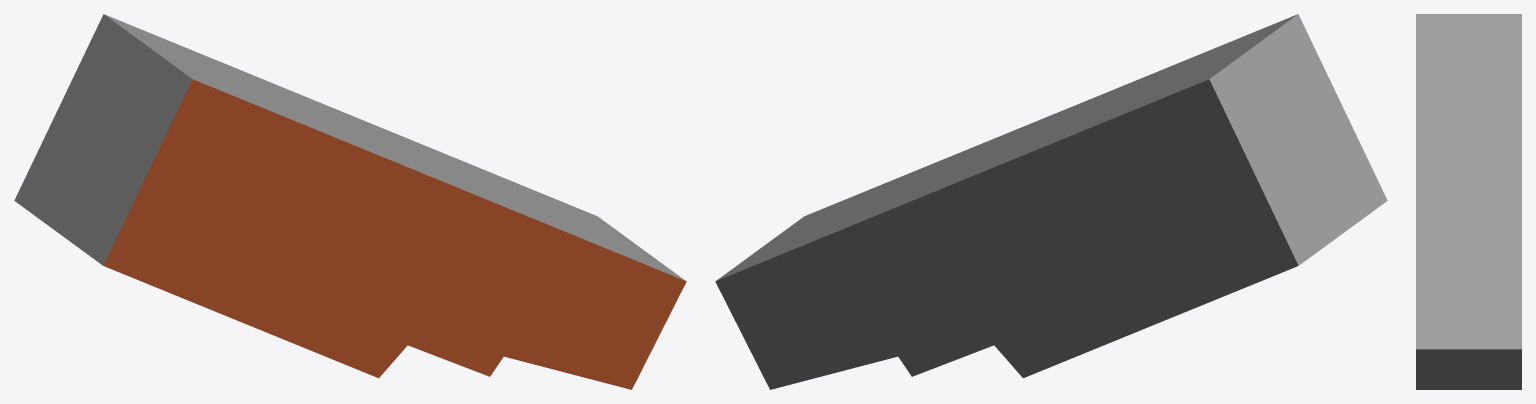
The model's file is construction_6801_assumed_A_Casa_h6m.obj.
3 renders of one model, left to right at view 1: azimuth 30°, elevation 25°; view 2: azimuth 150°, elevation 25°; view 3: azimuth 270°, elevation 25°, orthographic. The views are drawn at different scales.
Parts seen in each view (by area): view 1: construction_6801_assumed_A_Casa; view 2: construction_6801_assumed_A_Casa; view 3: construction_6801_assumed_A_Casa.
Boxes of the visible parts, box(x1,y1,x2,y2) form: construction_6801_assumed_A_Casa: box(14, 14, 686, 389); construction_6801_assumed_A_Casa: box(715, 14, 1387, 389); construction_6801_assumed_A_Casa: box(1416, 14, 1521, 389).
Bounding box in the file's own units: 22.69 × 15.53 × 6.
